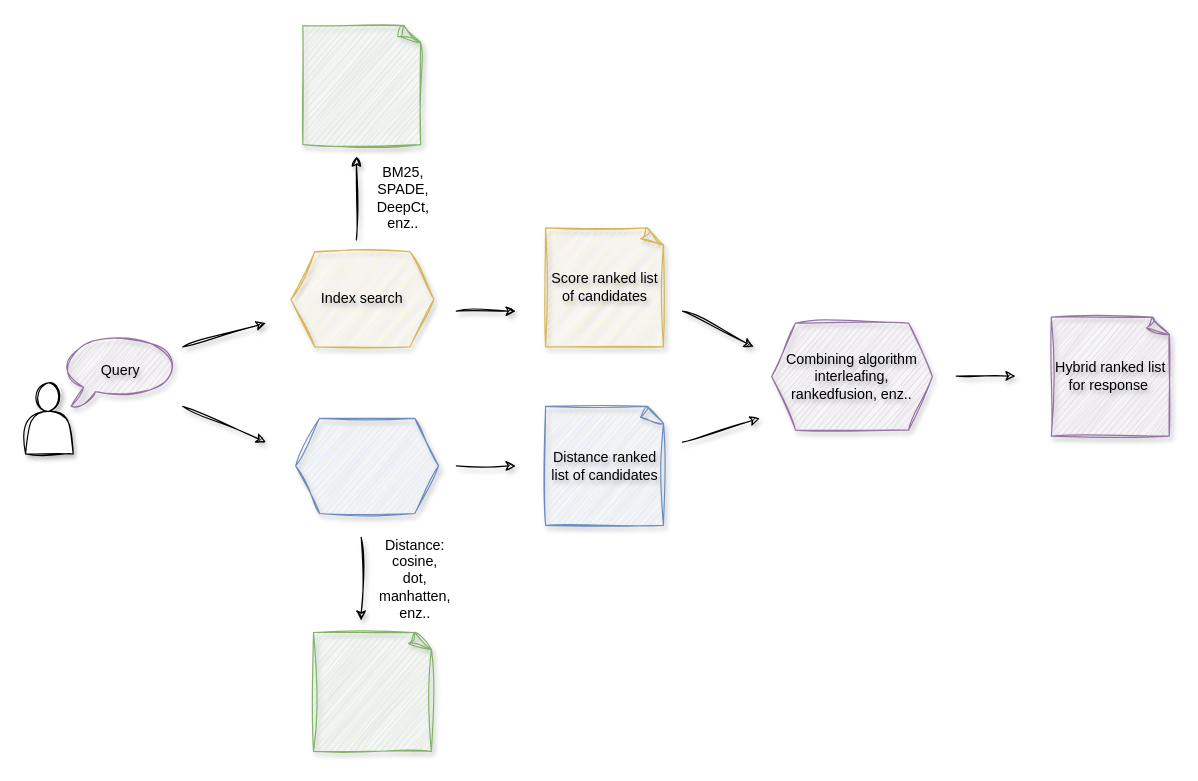
The diagram is 1198 pixels wide and 781 high, and some of its shapes have lost their labels. The centre of each missing label's shape, as x and y in pixels:
Indexed Data Set: point 363,86
Vector search: point 368,467
Vectorized Data Set: point 374,693
